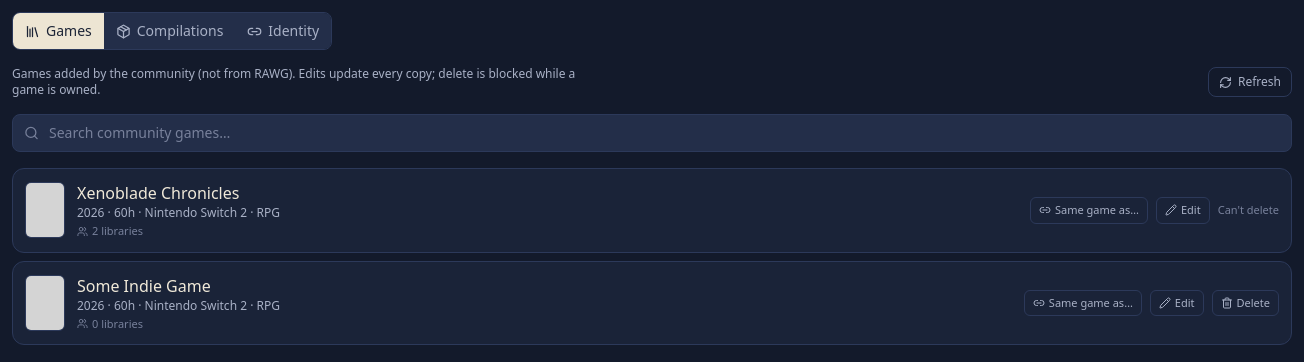
it: CatalogManager › filters by title
The width and height of the screenshot is (1304, 362).
Check: the text "Xenoblade Chronicles" is shown, box [77,182,239,204]
Type "indie" into the field with placeholder "Search community games…" at [652, 133], box [12,114,1292,152]
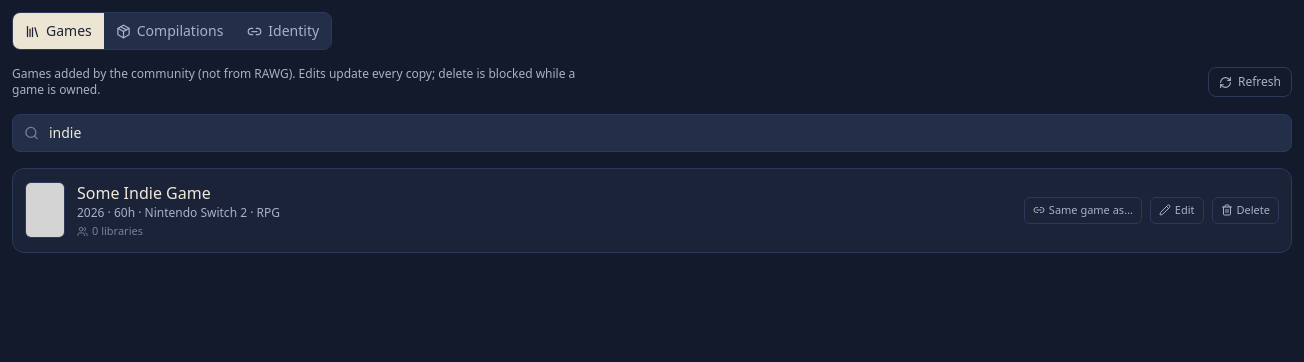
Check: the text "Some Indie Game" is shown, box [77,182,211,204]
Check: the text "Xenoblade Chronicles" is gone
